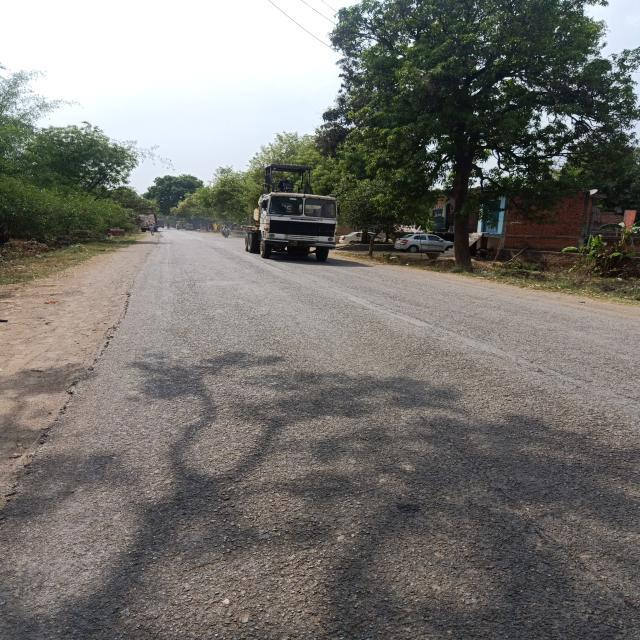truck_front: (241, 183, 343, 264)
